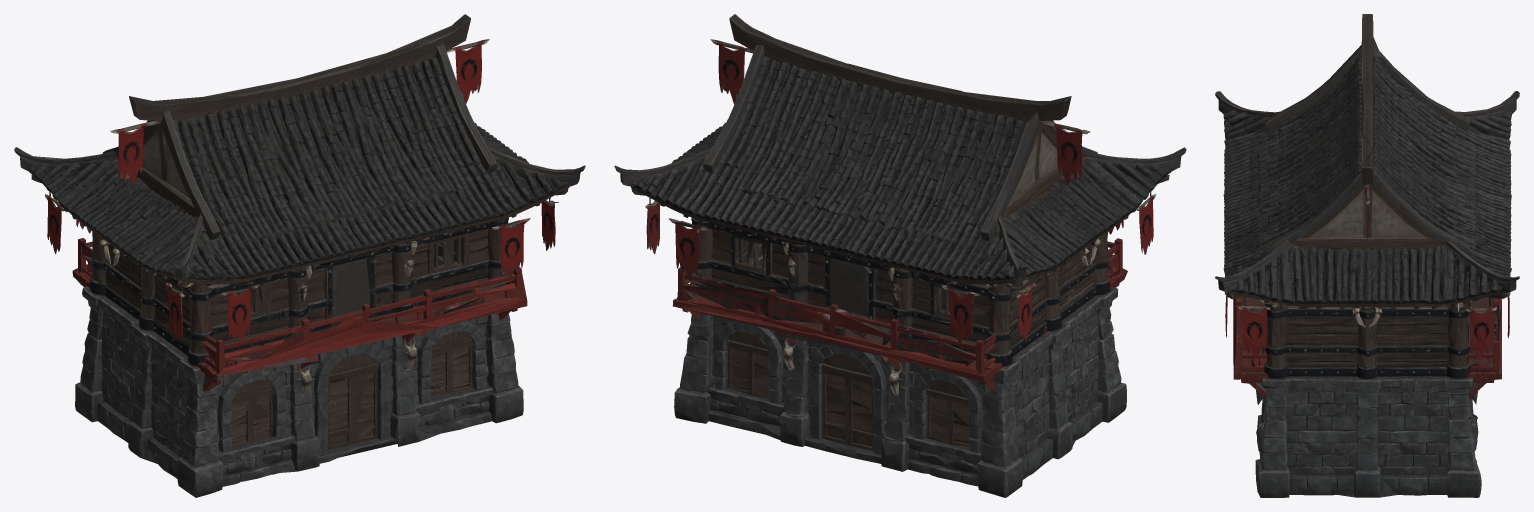
Rendered from house_stone_c.glb.
The picture shows the model from 3 angles, left to right: view 1: azimuth 30°, elevation 25°; view 2: azimuth 150°, elevation 25°; view 3: azimuth 270°, elevation 25°; orthographic projection. The views are drawn at different scales.
Parts seen in each view (by area): view 1: house_stone_c; view 2: house_stone_c; view 3: house_stone_c.
Boxes of the visible parts, x1,y1,x2,y2 form: house_stone_c: (14,14,585,497); house_stone_c: (614,14,1186,497); house_stone_c: (1215,14,1519,497).
Size of the model in its own units: 9.65 by 8 by 6.64.
Materials: 1 (1 with a texture image).
